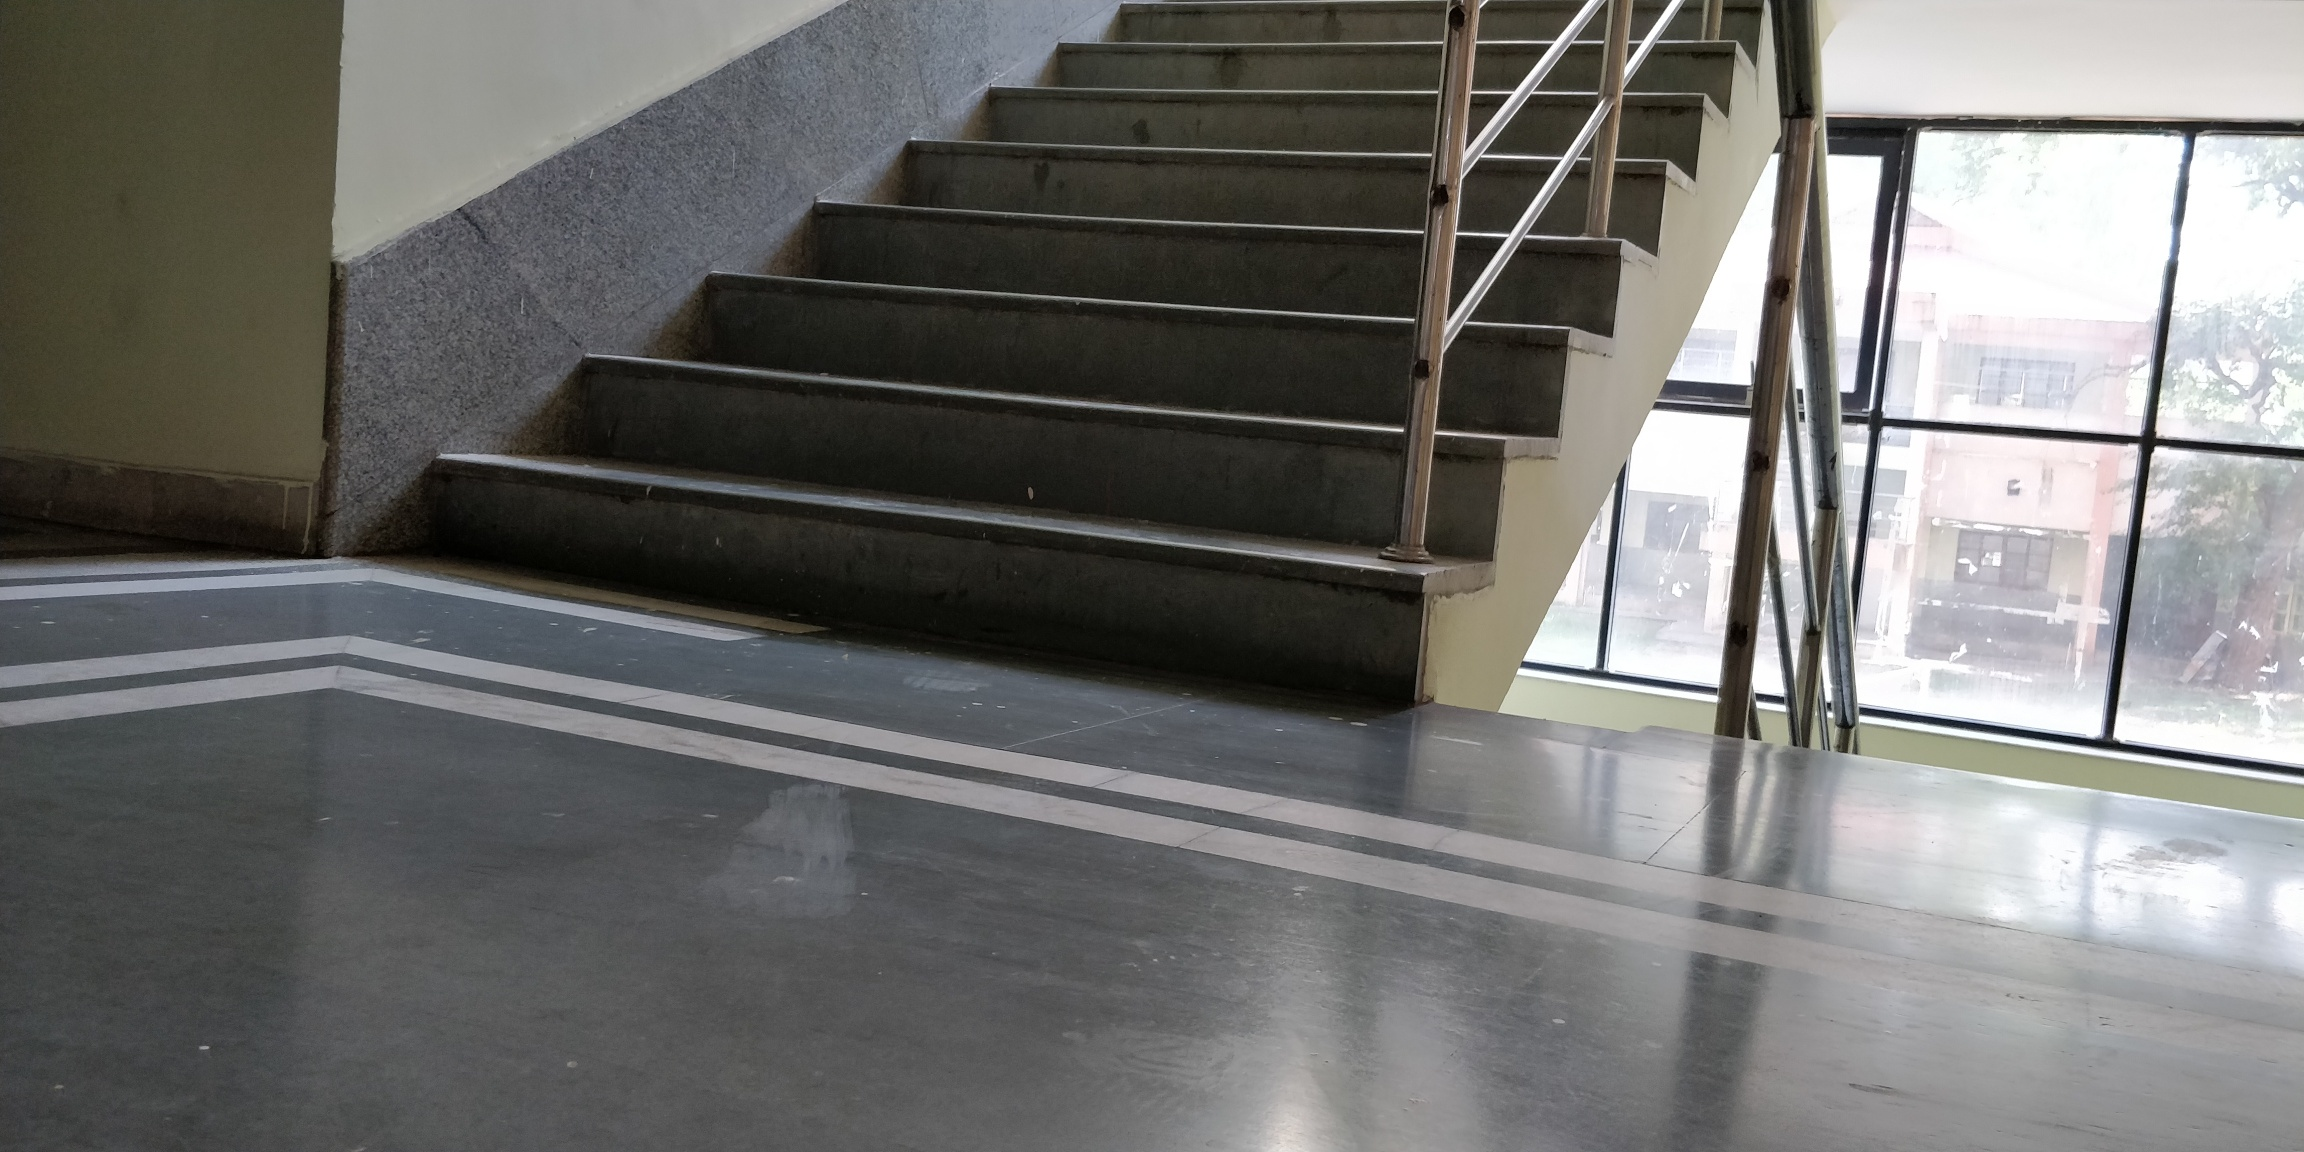stairs_up: (359, 34, 1632, 663)
